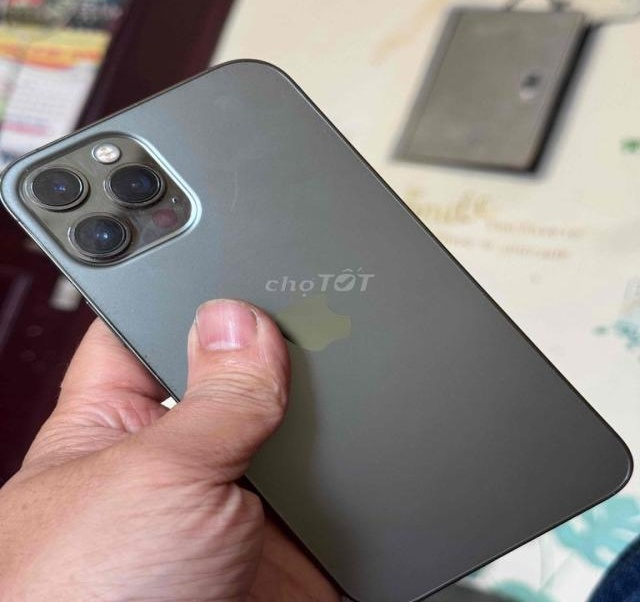scratch: (211, 159, 266, 239)
